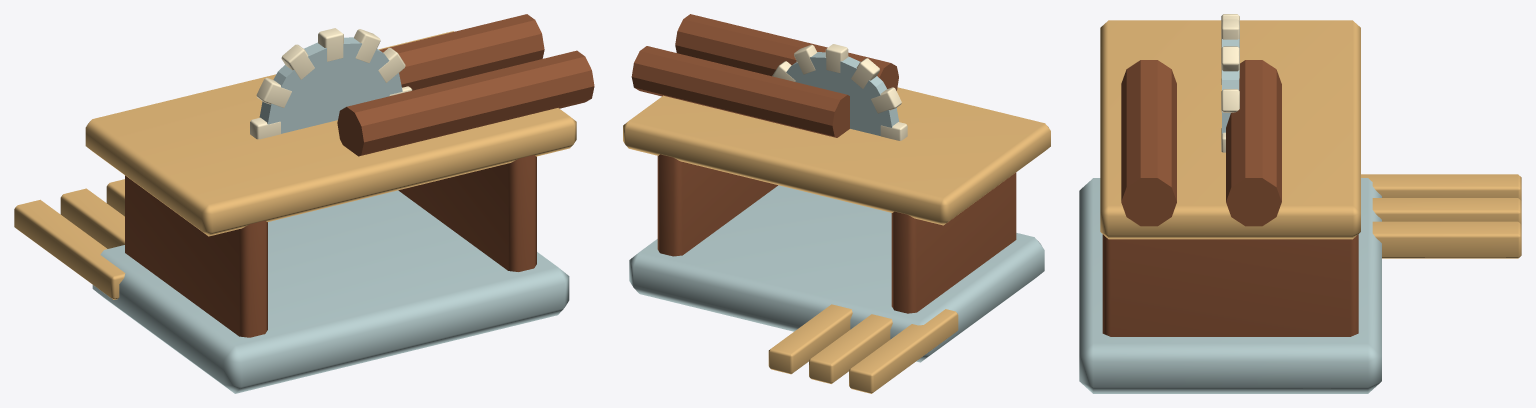
File: sawmill.glb
The picture shows the model from 3 angles, left to right: view 1: azimuth 30°, elevation 25°; view 2: azimuth 150°, elevation 25°; view 3: azimuth 270°, elevation 25°; orthographic projection. The views are drawn at different scales.
Parts seen in each view (by area): view 1: Platform, Table, Waiting log, Leg, Leg.001, Waiting log.001, Steel blade, Output plank.002, Output plank.001, Tooth.010, Tooth.011, Tooth (+4 smaller); view 2: Platform, Table, Waiting log.001, Leg, Leg.001, Waiting log, Output plank.002, Steel blade, Output plank, Output plank.001, Tooth.011, Tooth.010 (+3 smaller); view 3: Table, Leg.001, Platform, Waiting log, Waiting log.001, Output plank, Output plank.002, Output plank.001, Steel blade, Tooth.001, Tooth.002, Tooth.
Boxes of the visible parts, left/top/right/bottom form: Platform: left=92, top=190, right=569, bottom=393; Table: left=85, top=31, right=576, bottom=236; Waiting log: left=337, top=50, right=594, bottom=156; Leg: left=125, top=175, right=267, bottom=337; Leg.001: left=398, top=155, right=536, bottom=271; Waiting log.001: left=379, top=14, right=544, bottom=90; Steel blade: left=259, top=37, right=402, bottom=133; Output plank.002: left=14, top=199, right=125, bottom=299; Output plank.001: left=60, top=188, right=124, bottom=248; Tooth.010: left=256, top=78, right=291, bottom=107; Tooth.011: left=281, top=44, right=314, bottom=79; Tooth: left=318, top=28, right=343, bottom=61; Platform: left=629, top=185, right=1044, bottom=362; Table: left=623, top=87, right=1050, bottom=225; Waiting log.001: left=631, top=46, right=849, bottom=137; Leg: left=891, top=172, right=1016, bottom=313; Leg.001: left=657, top=154, right=777, bottom=256; Waiting log: left=675, top=14, right=898, bottom=90; Output plank.002: left=849, top=309, right=958, bottom=393; Steel blade: left=786, top=52, right=899, bottom=135; Output plank: left=768, top=304, right=852, bottom=374; Output plank.001: left=809, top=314, right=892, bottom=383; Tooth.011: left=851, top=58, right=879, bottom=88; Tooth.010: left=871, top=87, right=901, bottom=113; Table: left=1100, top=20, right=1360, bottom=239; Leg.001: left=1102, top=234, right=1358, bottom=336; Platform: left=1079, top=178, right=1381, bottom=393; Waiting log: left=1121, top=60, right=1176, bottom=226; Waiting log.001: left=1226, top=60, right=1281, bottom=226; Output plank: left=1372, top=221, right=1521, bottom=258; Output plank.002: left=1361, top=174, right=1521, bottom=200; Output plank.001: left=1372, top=198, right=1521, bottom=224; Steel blade: left=1222, top=39, right=1239, bottom=133; Tooth.001: left=1221, top=46, right=1239, bottom=78; Tooth.002: left=1221, top=89, right=1239, bottom=112; Tooth: left=1221, top=19, right=1239, bottom=47.
Size of the model in its own units: 2.08 by 1.36 by 1.9.
